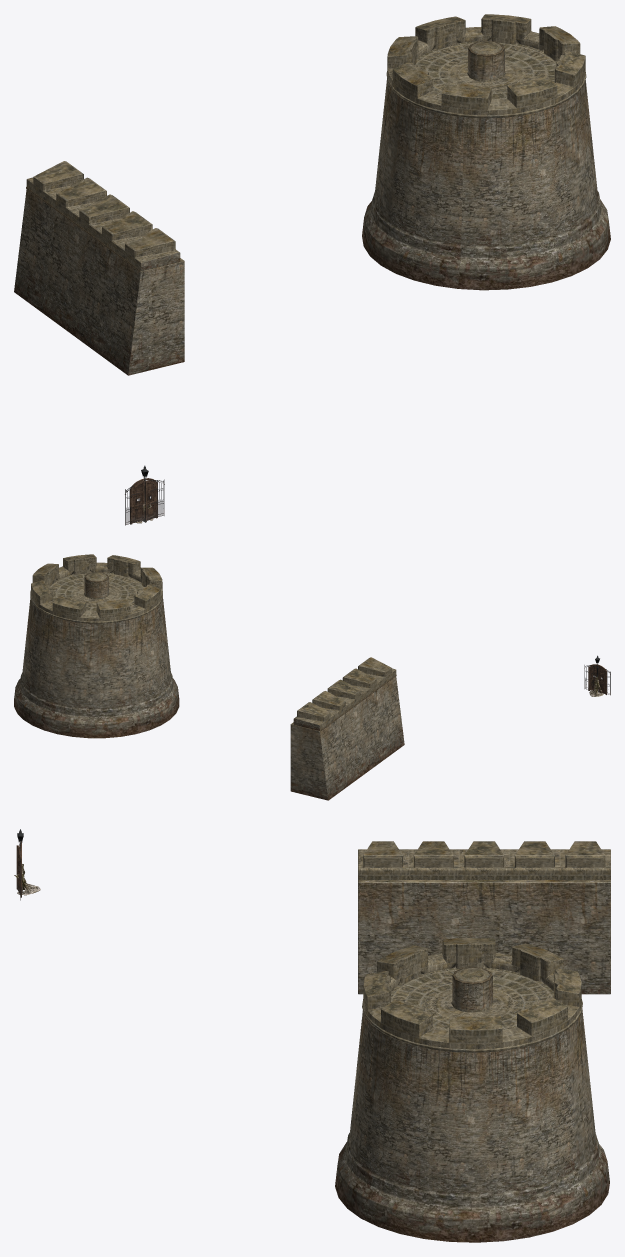
Rendered from terra.glb.
The picture shows the model from 3 angles, top to bottom: view 1: azimuth 30°, elevation 25°; view 2: azimuth 150°, elevation 25°; view 3: azimuth 270°, elevation 25°; orthographic projection. The views are drawn at different scales.
Parts seen in each view (by area): view 1: modular_fort_01_tower_round, modular_fort_01_wall_thick_straight_01; view 2: modular_fort_01_tower_round, modular_fort_01_wall_thick_straight_01; view 3: modular_fort_01_tower_round, modular_fort_01_wall_thick_straight_01.
Boxes of the visible parts, left/top/right/bottom form: modular_fort_01_tower_round: left=362, top=14, right=610, bottom=290; modular_fort_01_wall_thick_straight_01: left=14, top=161, right=184, bottom=375; modular_fort_01_tower_round: left=14, top=554, right=179, bottom=738; modular_fort_01_wall_thick_straight_01: left=290, top=657, right=404, bottom=800; modular_fort_01_tower_round: left=335, top=938, right=609, bottom=1242; modular_fort_01_wall_thick_straight_01: left=358, top=841, right=610, bottom=994.
Bounding box in the file's own units: 49.51 × 13.59 × 34.37.
11 materials, 11 textured.
